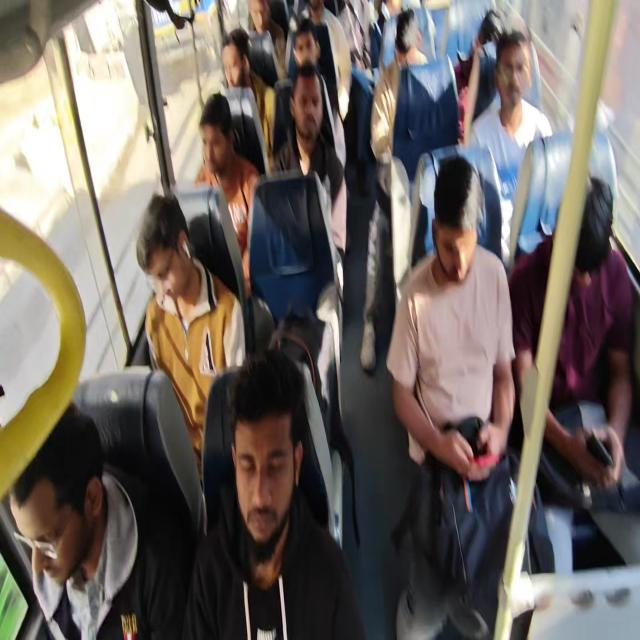person: (552, 151, 640, 367), (235, 359, 307, 604), (26, 403, 112, 557), (451, 212, 532, 318), (391, 24, 469, 115), (185, 83, 235, 217), (130, 189, 181, 293), (506, 30, 548, 123), (292, 92, 335, 172), (280, 33, 322, 114), (478, 1, 508, 70), (219, 16, 243, 101), (379, 0, 414, 42), (252, 0, 278, 39), (306, 0, 319, 39)
